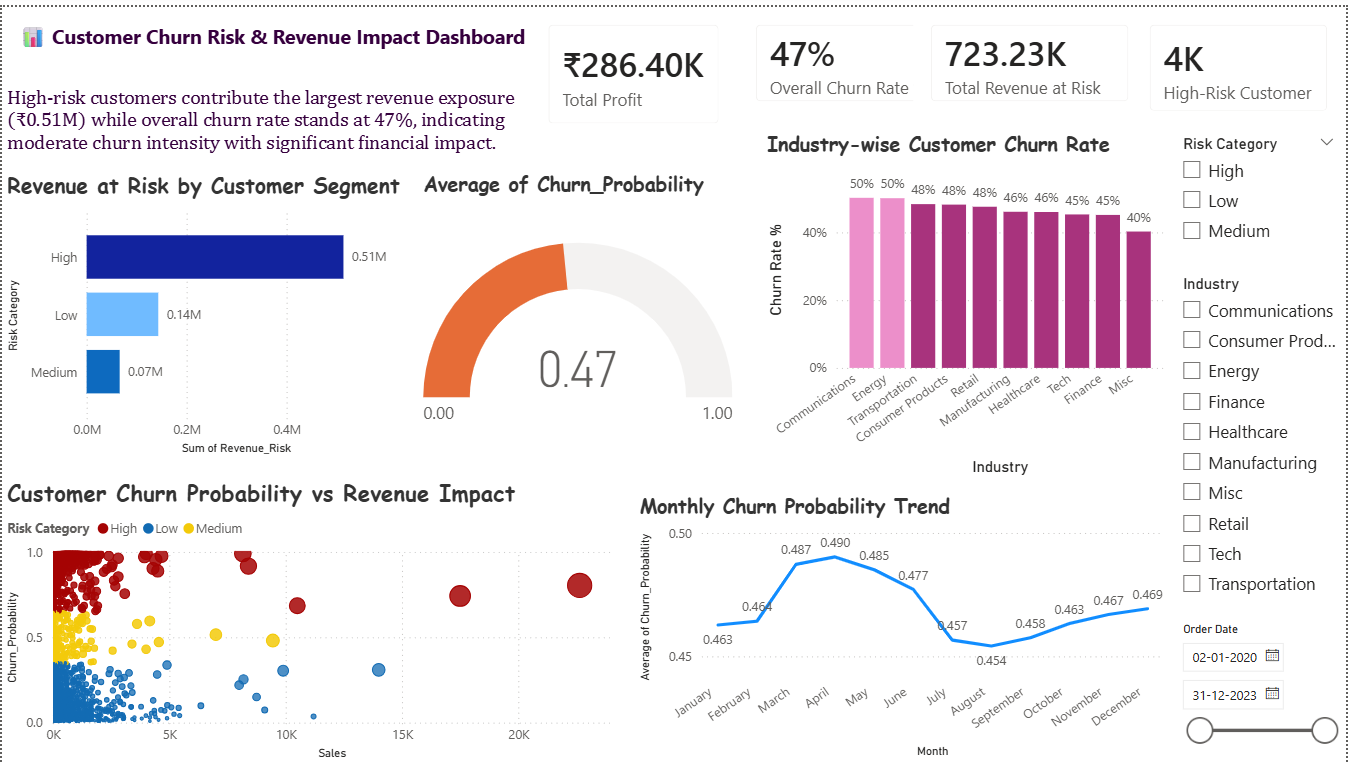

The page's visual inventory and layout, read from the dashboard file:
{"tool":"powerbi","page":{"name":"Page 1","canvas":[1280,720],"ordinal":0},"visuals":[{"type":"cardVisual","fields":{"Data":["SaaS_Sales_With_Risk.High Risk Customer"]},"box":[1076.7,0,203.5,116.3],"z":0},{"type":"clusteredColumnChart","title":"Industry-wise Customer Churn Rate","fields":{"Category":["SaaS_Sales_With_Risk.Industry"],"Y":["SaaS_Sales_With_Risk.Churn Rate %"]},"box":[723.9,116.2,387.6,335.1],"z":1000},{"type":"clusteredBarChart","title":"Revenue at Risk by Customer Segment","fields":{"Category":["SaaS_Sales_With_Risk.Risk Category"],"Y":["Sum(SaaS_Sales_With_Risk.Revenue_Risk)"]},"box":[0,155.3,385.2,276.4],"z":2000},{"type":"scatterChart","title":"Customer Churn Probability vs Revenue Impact","fields":{"X":["SaaS_Sales_With_Risk.Sales"],"Y":["SaaS_Sales_With_Risk.Churn_Probability"],"Series":["SaaS_Sales_With_Risk.Risk Category"],"Size":["Sum(SaaS_Sales_With_Risk.Revenue_Risk)"]},"box":[0,447.6,595.5,273.9],"z":3000},{"type":"lineChart","title":"Monthly Churn Probability Trend","fields":{"Category":["SaaS_Sales_With_Risk.Order Date.Variation.Date Hierarchy.Month"],"Y":["Avg(SaaS_Sales_With_Risk.Churn_Probability)"]},"box":[602.9,461,508.7,259.2],"z":4000},{"type":"slicer","fields":{"Values":["SaaS_Sales_With_Risk.Risk Category"]},"box":[1111.6,116.3,168.6,133.7],"z":5000},{"type":"gauge","fields":{"Y":["Avg(SaaS_Sales_With_Risk.Churn_Probability)"]},"box":[396.2,155.3,304.5,292.3],"z":6000},{"type":"slicer","fields":{"Values":["SaaS_Sales_With_Risk.Industry"]},"box":[1111.6,250,168.6,320.9],"z":7000},{"type":"slicer","fields":{"Values":["SaaS_Sales_With_Risk.Order Date"]},"box":[1111.6,581.4,168.6,138.4],"z":8000},{"type":"cardVisual","title":"Total Profit","fields":{"Data":["Sum(SaaS_Sales_With_Risk.Profit)"]},"box":[503.8,0,196.9,128.4],"z":9000},{"type":"cardVisual","fields":{"Data":["SaaS_Sales_With_Risk.Churn Rate %"]},"box":[700.7,0,209.1,107.6],"z":10000},{"type":"cardVisual","fields":{"Data":["Sum(SaaS_Sales_With_Risk.Revenue_Risk)"]},"box":[868.2,0,222.6,107.6],"z":11000},{"type":"textbox","box":[0,53.8,503.8,101.5],"z":11001},{"type":"textbox","box":[0,11,518.5,42.8],"z":11002}]}

Visuals, with their boxes in screenshot pixels (x1, y1, x2, y2), scaled from the page's 1280x720 canvas onto the 1348x762 screenshot:
cardVisual - SaaS_Sales_With_Risk.High Risk Customer: (1134, 0, 1347, 123)
"Industry-wise Customer Churn Rate" clusteredColumnChart: (762, 123, 1171, 478)
"Revenue at Risk by Customer Segment" clusteredBarChart: (0, 164, 406, 457)
"Customer Churn Probability vs Revenue Impact" scatterChart: (0, 474, 627, 761)
"Monthly Churn Probability Trend" lineChart: (635, 488, 1171, 761)
slicer - SaaS_Sales_With_Risk.Risk Category: (1171, 123, 1347, 265)
gauge - Avg(SaaS_Sales_With_Risk.Churn_Probability): (417, 164, 738, 474)
slicer - SaaS_Sales_With_Risk.Industry: (1171, 265, 1347, 604)
slicer - SaaS_Sales_With_Risk.Order Date: (1171, 615, 1347, 761)
"Total Profit" cardVisual: (531, 0, 738, 136)
cardVisual - SaaS_Sales_With_Risk.Churn Rate %: (738, 0, 958, 114)
cardVisual - Sum(SaaS_Sales_With_Risk.Revenue_Risk): (914, 0, 1149, 114)
textbox: (0, 57, 531, 164)
textbox: (0, 12, 546, 57)
